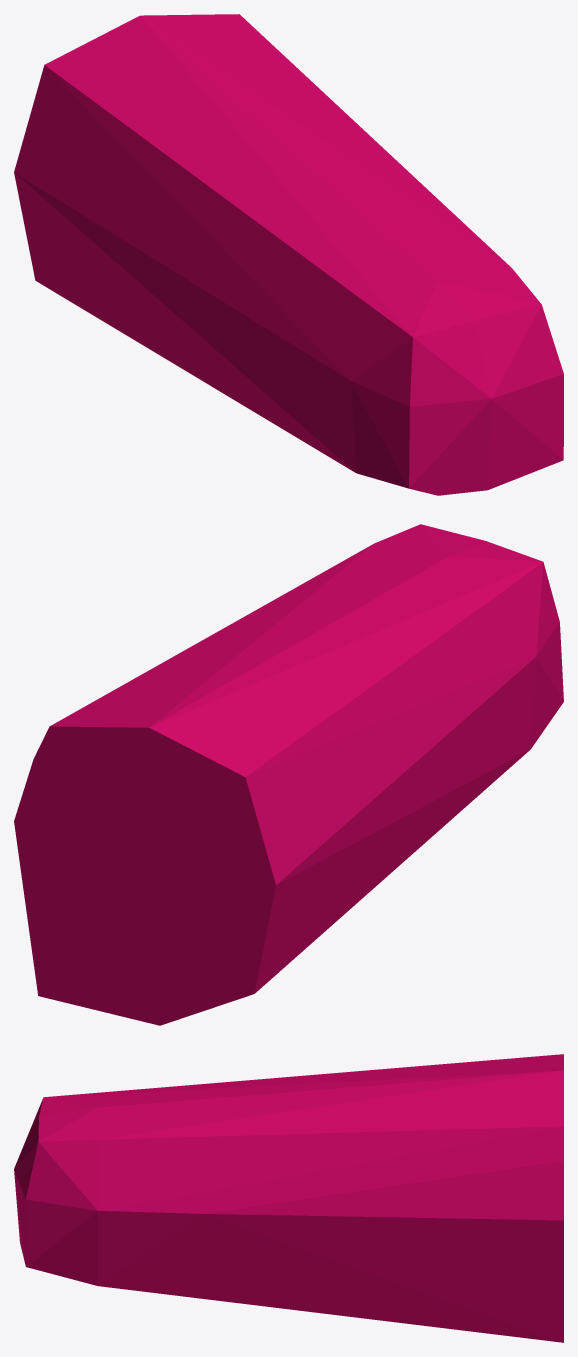
3 views of the same model, one above another, from view 1: azimuth 30°, elevation 25°; view 2: azimuth 150°, elevation 25°; view 3: azimuth 270°, elevation 25° (orthographic). The views are drawn at different scales.
Size of the model in its own units: 1.96 by 2.12 by 4.58.
